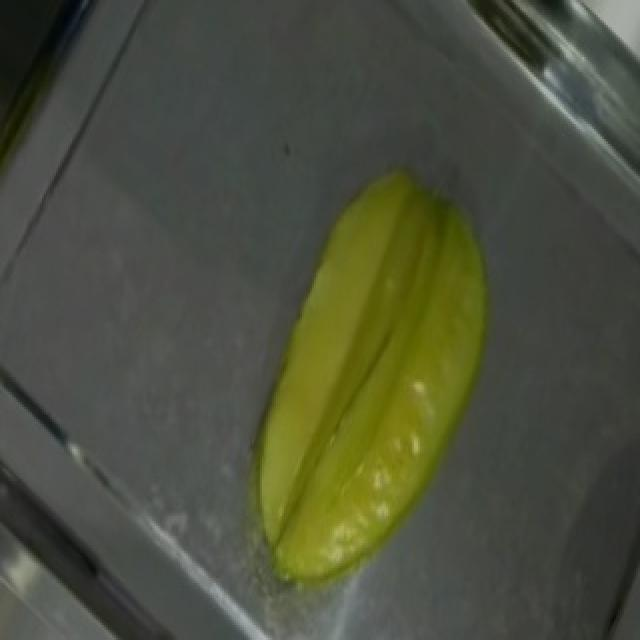fruit: (262, 132, 580, 548)
